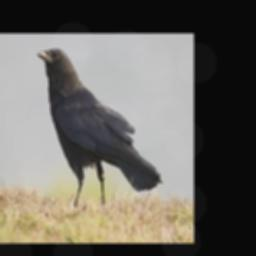Crow: (35, 46, 161, 207)
